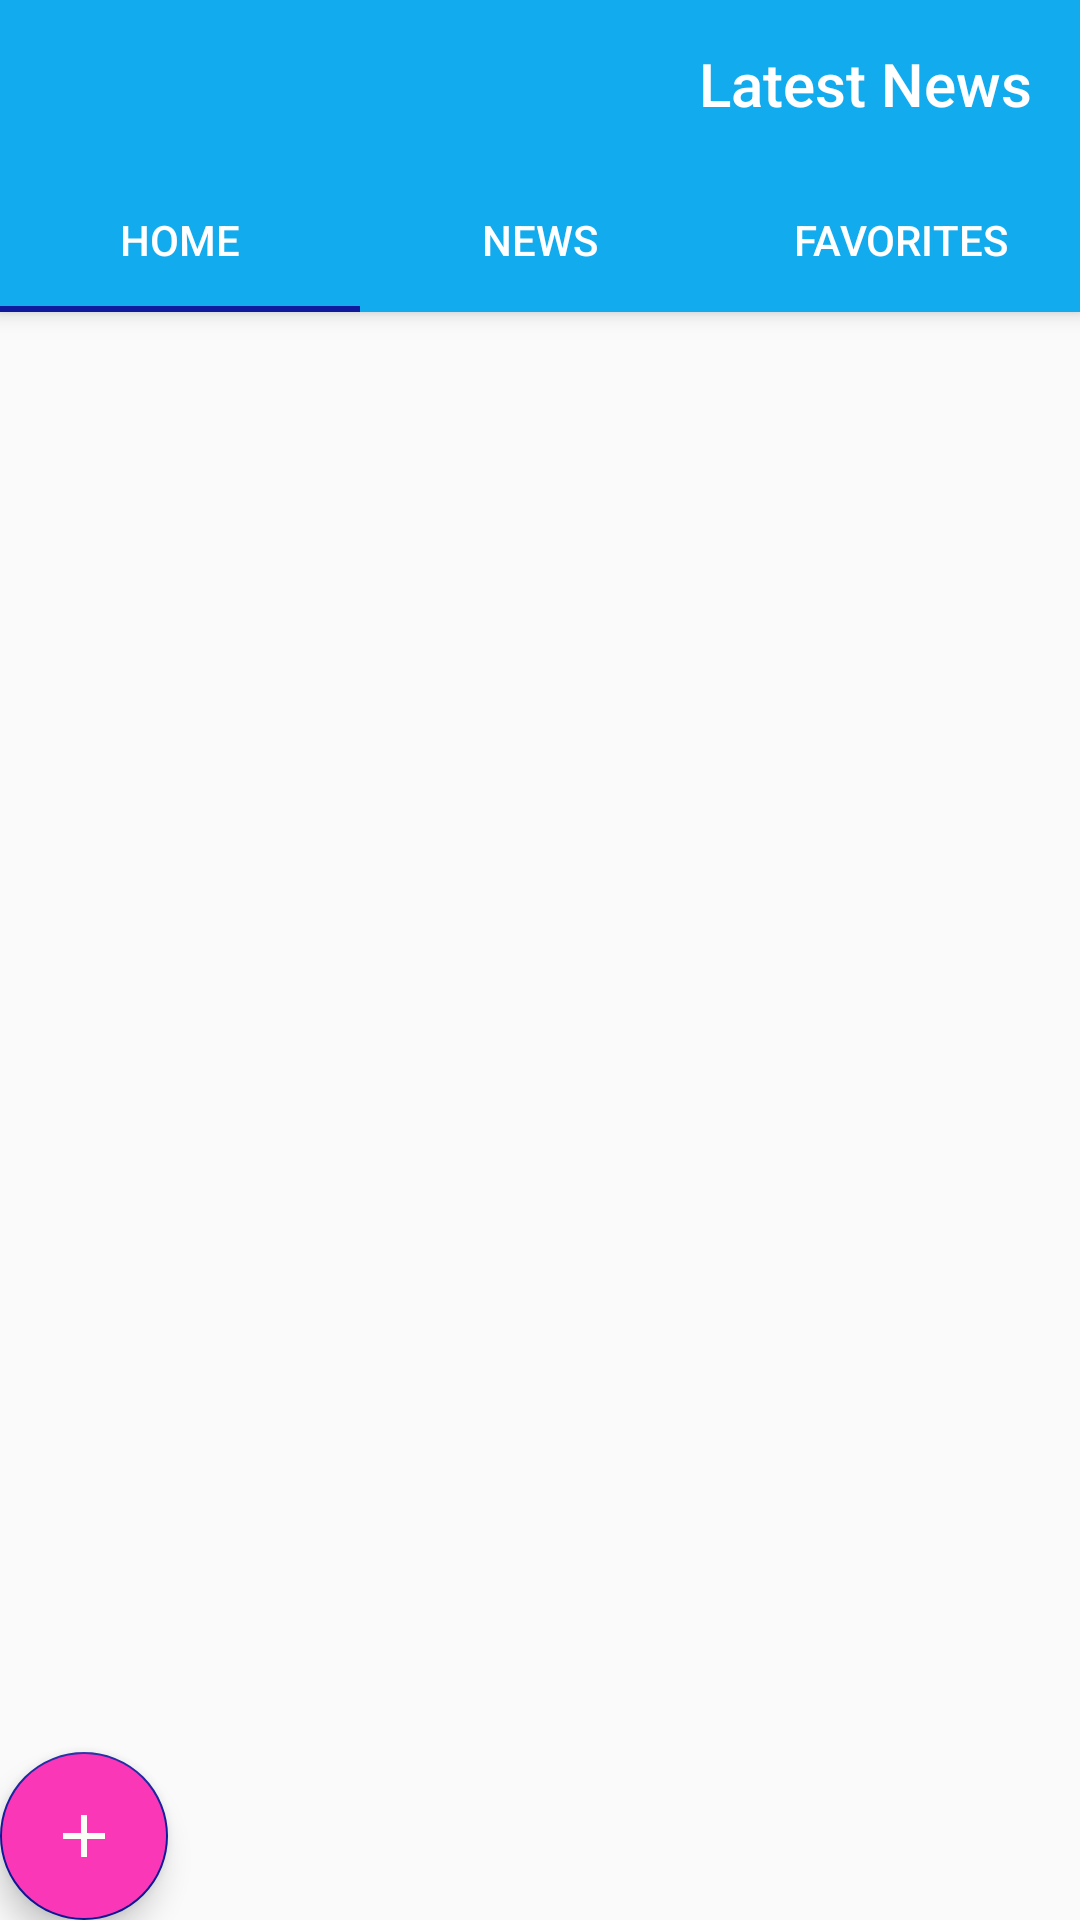

Locate icon controls on the screen. Image size 1080×1920, boxes as [x1, y1, x2, y2].
add: [0, 1752, 168, 1920]
